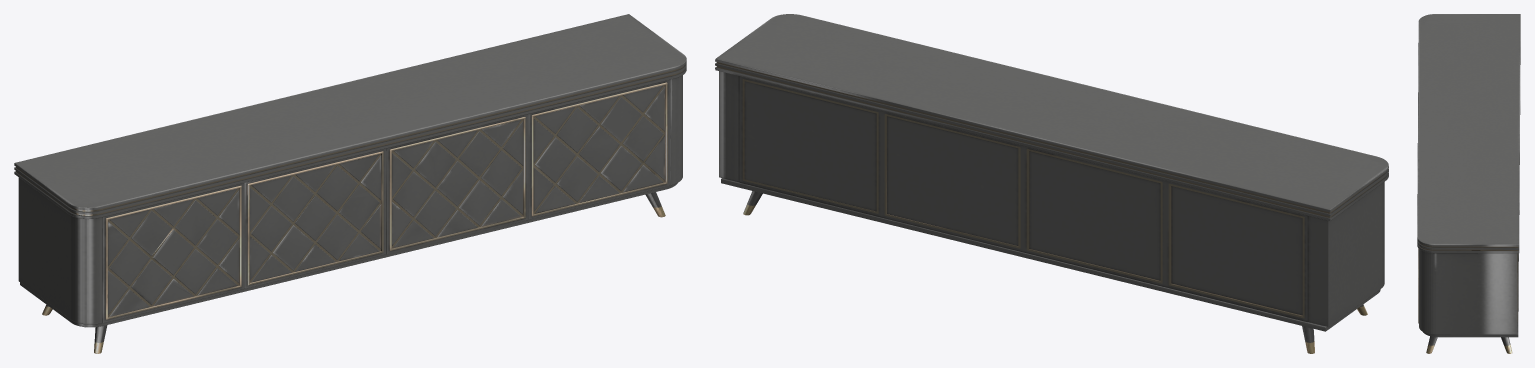
Rendered from 6_7a0ff9f9-85e9-4bde-93ca-c2c929233258.obj.
The picture shows the model from 3 angles, left to right: view 1: azimuth 30°, elevation 25°; view 2: azimuth 150°, elevation 25°; view 3: azimuth 270°, elevation 25°; orthographic projection. The views are drawn at different scales.
Size of the model in its own units: 2.11 by 0.502 by 0.4.
Materials: 1 (1 with a texture image).
